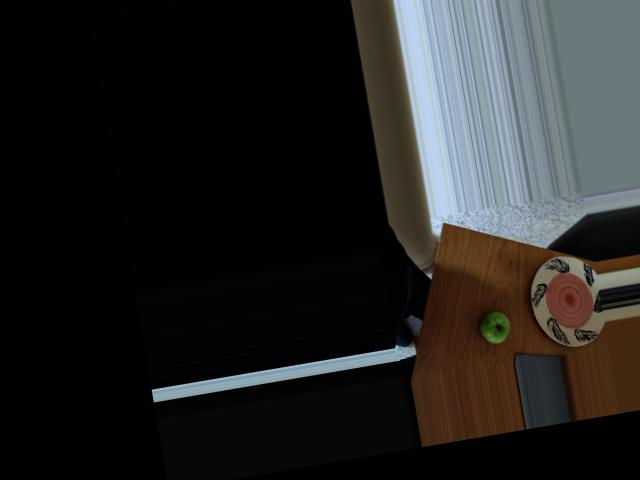apple: (470, 304, 514, 347)
